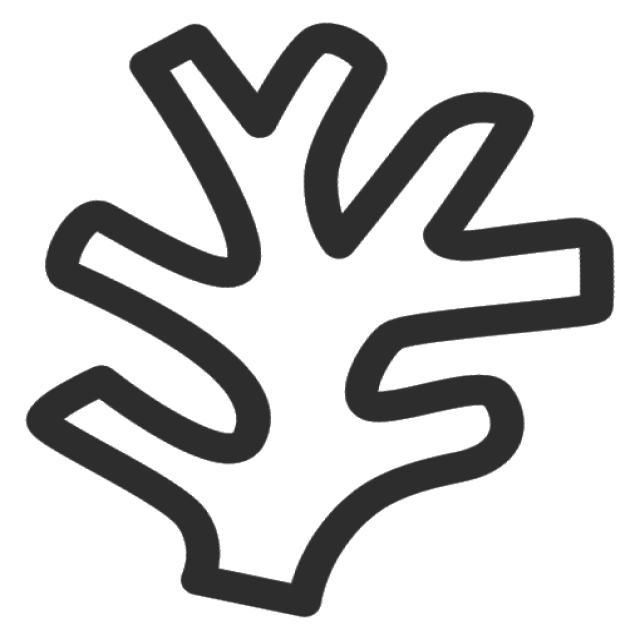coral: (11, 11, 629, 637)
